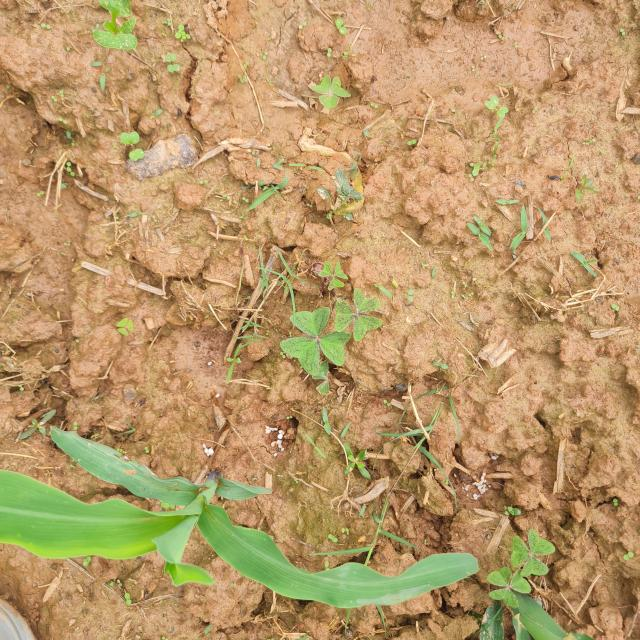maize: (0, 390, 476, 617)
weed: (480, 522, 583, 636), (262, 296, 396, 372), (88, 0, 170, 71), (493, 192, 561, 250), (470, 96, 517, 158), (109, 111, 156, 161), (300, 71, 354, 111), (455, 208, 499, 252)
